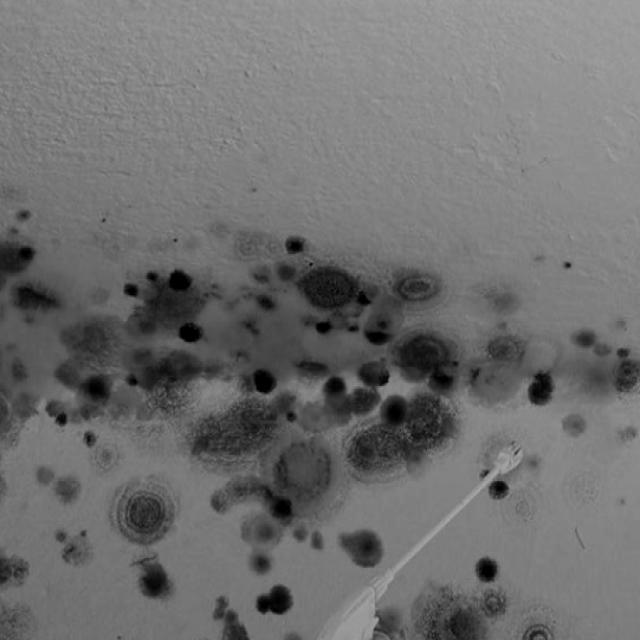stain marks: (1, 210, 640, 424), (1, 424, 550, 639)
